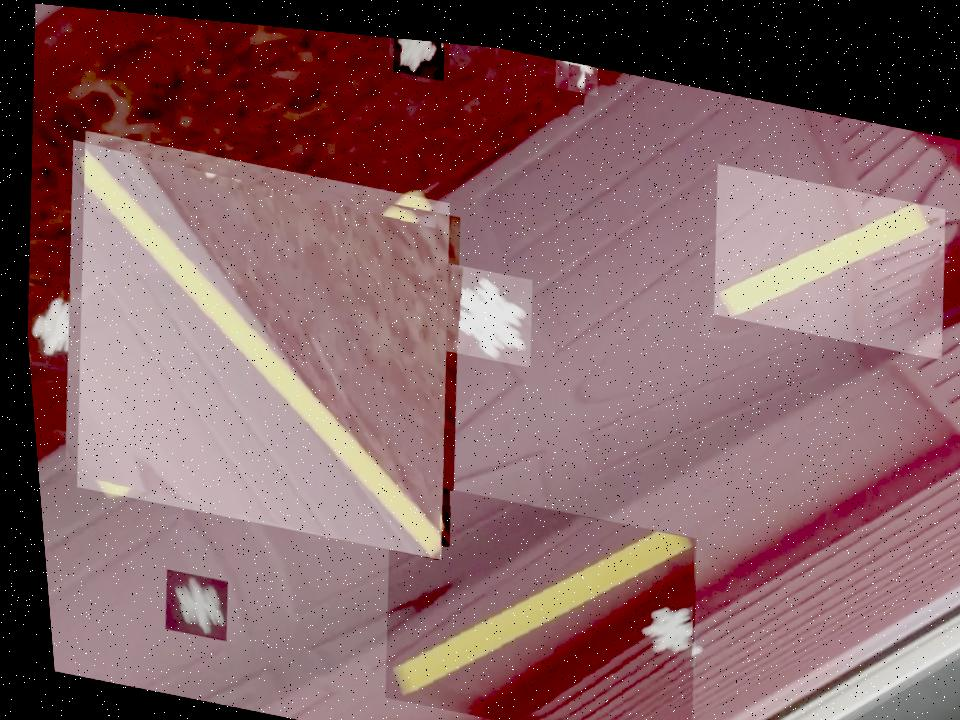dent: (424, 252, 534, 358), (18, 282, 108, 379), (151, 566, 222, 638), (391, 30, 447, 73), (553, 48, 600, 84), (957, 391, 960, 477)
scratch: (45, 126, 470, 555), (360, 468, 704, 720), (700, 148, 953, 342)
